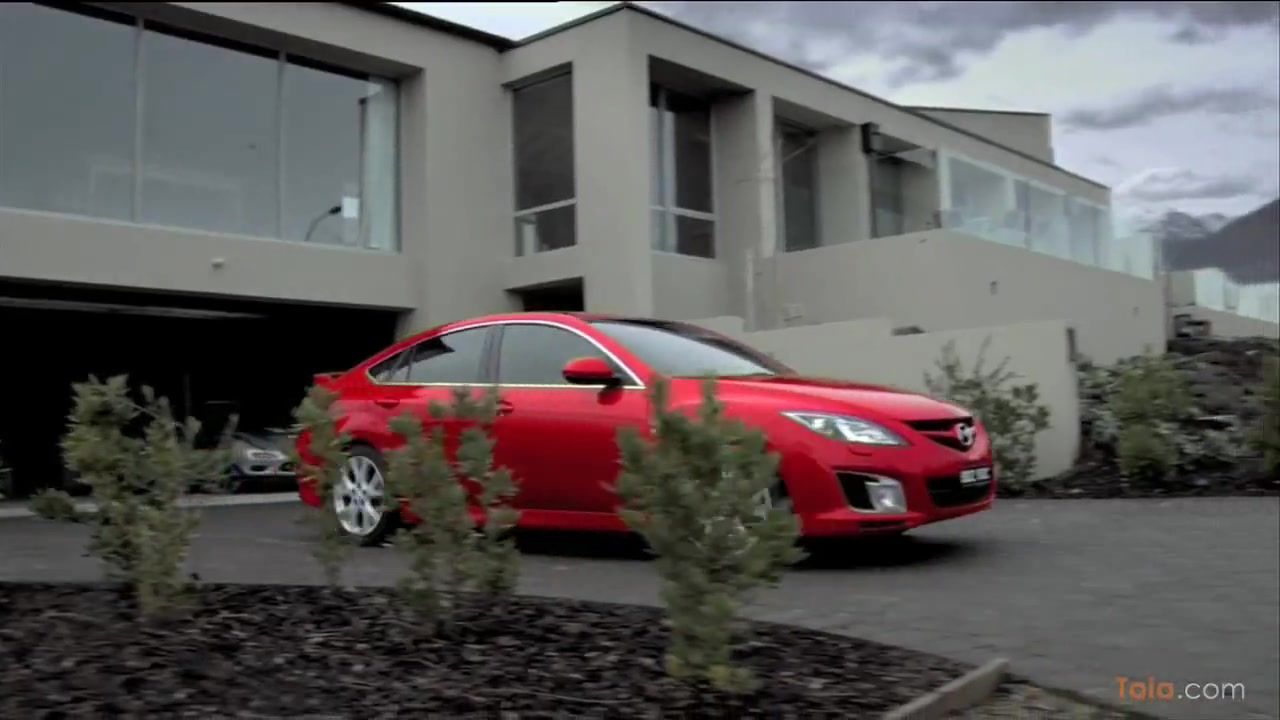car: (289, 314, 1002, 557)
